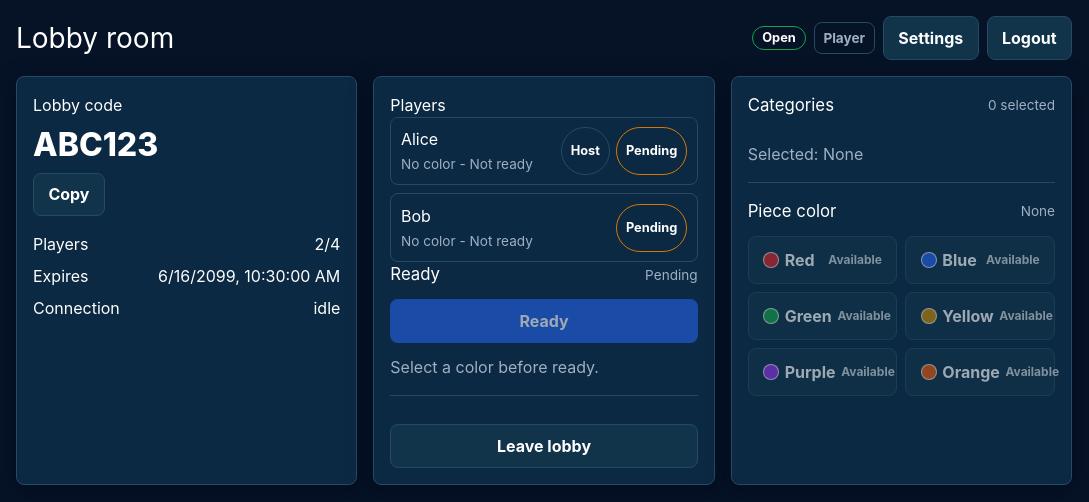
Test: LobbyRoomPage › renders lobby details and copy-code feedback
This screenshot has width=1089, height=502.
expect the text "ABC123" is shown: met, box [33,125,158,164]
expect the text "2/4" is shown: met, box [314,232,340,256]
Click the button with aria-label "Copy lobby code" at (69, 194), box [33,173,105,216]
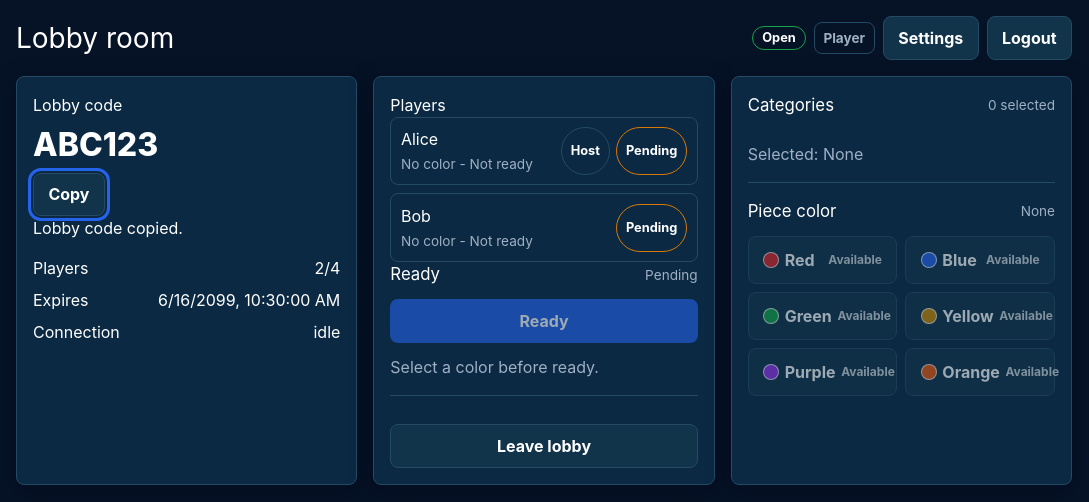
expect the text "Lobby code copied." is shown: met, box [33,218,183,238]
